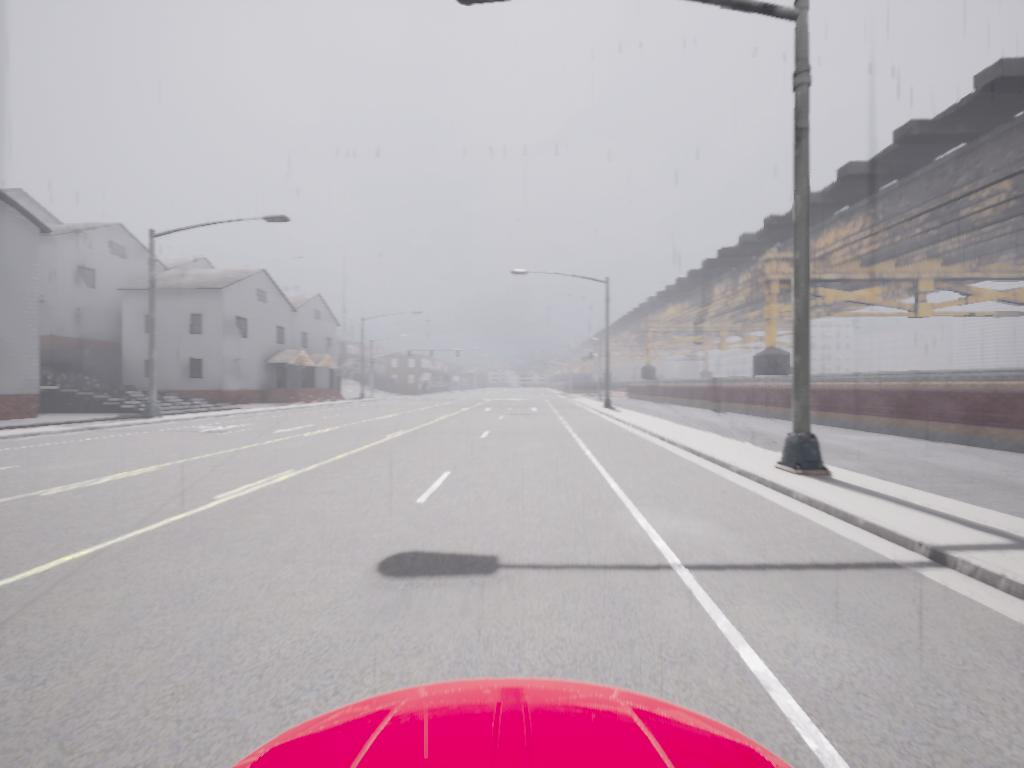traffic_light: (407, 350, 414, 359), (428, 351, 435, 358), (457, 350, 461, 358)
